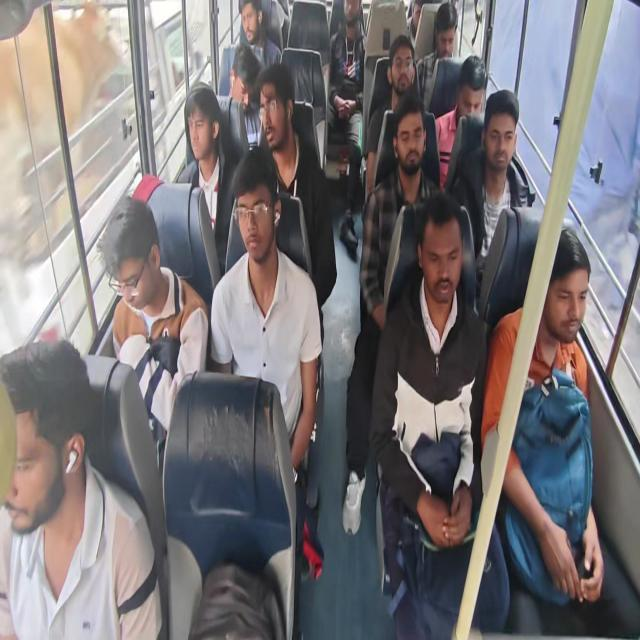person: (368, 192, 511, 638), (0, 338, 163, 638), (481, 223, 605, 612), (342, 93, 444, 536), (209, 145, 323, 480), (96, 194, 209, 444), (252, 62, 337, 345), (454, 88, 534, 304), (176, 84, 237, 273), (327, 0, 367, 257), (365, 34, 421, 200), (434, 54, 487, 188), (416, 1, 458, 109), (228, 43, 262, 149), (238, 0, 282, 70), (406, 0, 424, 46)
